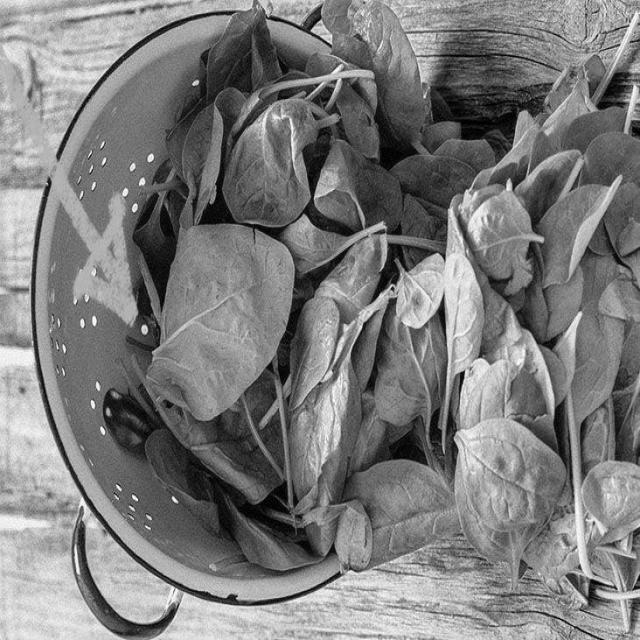Spinach: (126, 0, 640, 619)
